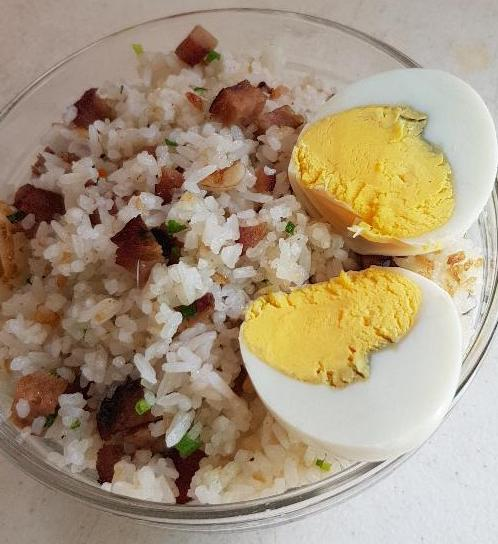egg: (239, 268, 465, 461), (289, 56, 498, 263)
rice: (18, 57, 255, 468)
